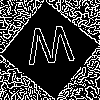W: (25, 25, 77, 75)
